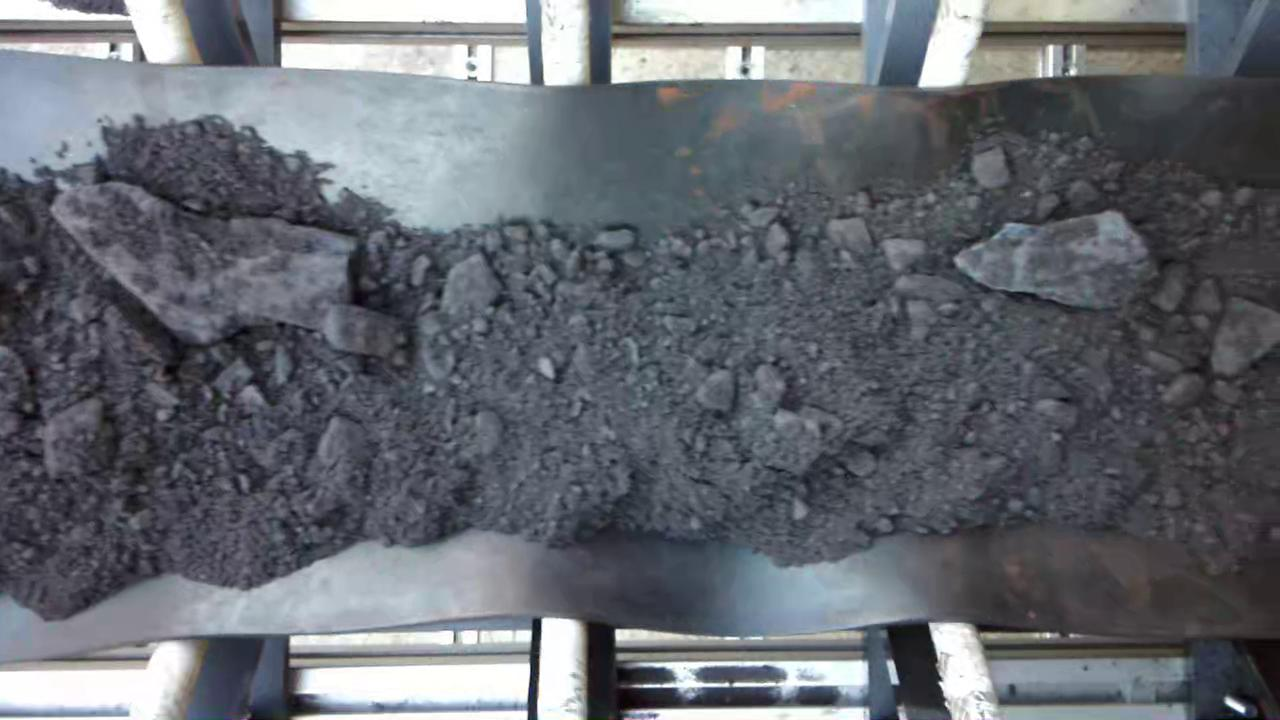conveyor: (7, 98, 1276, 615)
